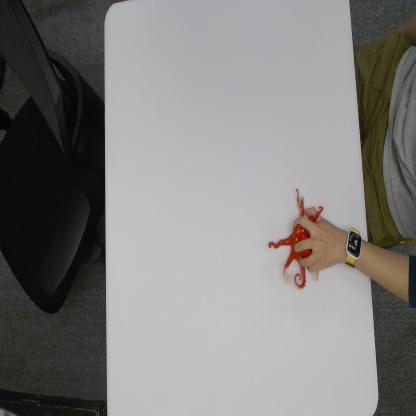Hand: (293, 203, 344, 271)
Octopus: (267, 189, 324, 292)
